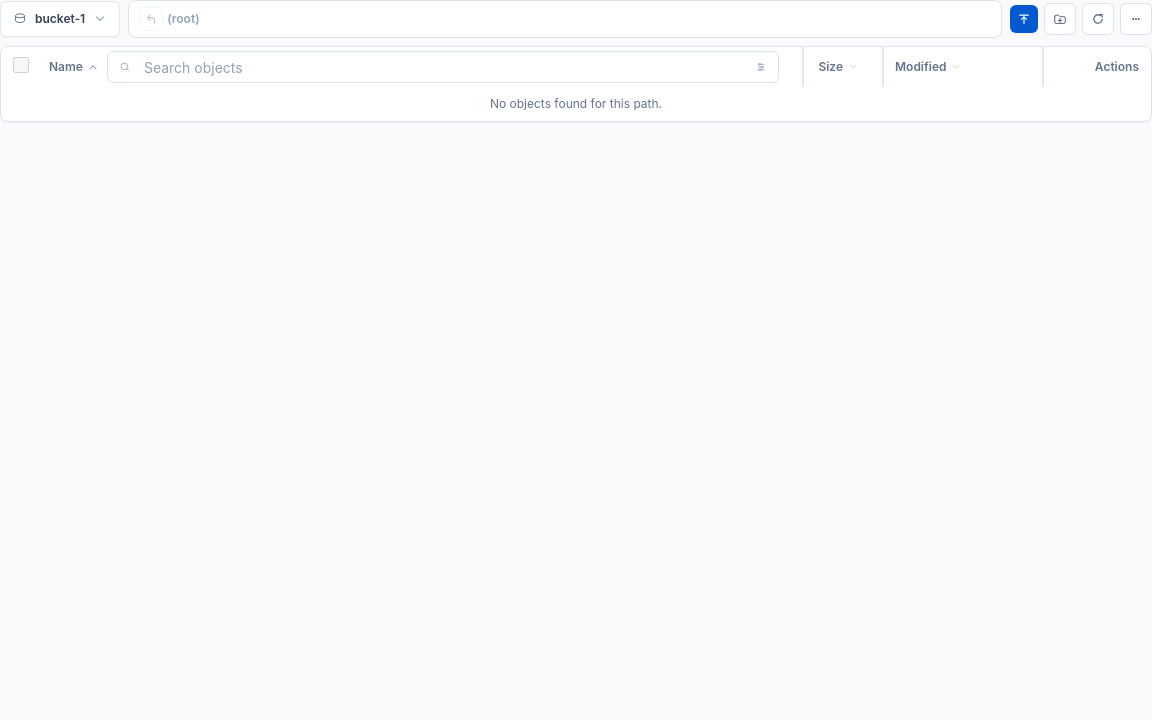
Test case: BrowserPage multipart uploads modal › opens bucket multipart modal and aborts a specific upload after confirmation
Check: the text "No objects found for this path." is shown, box [1,87,1151,121]
Click the button named "More": coordinates (1136, 19) [1120,3,1151,35]
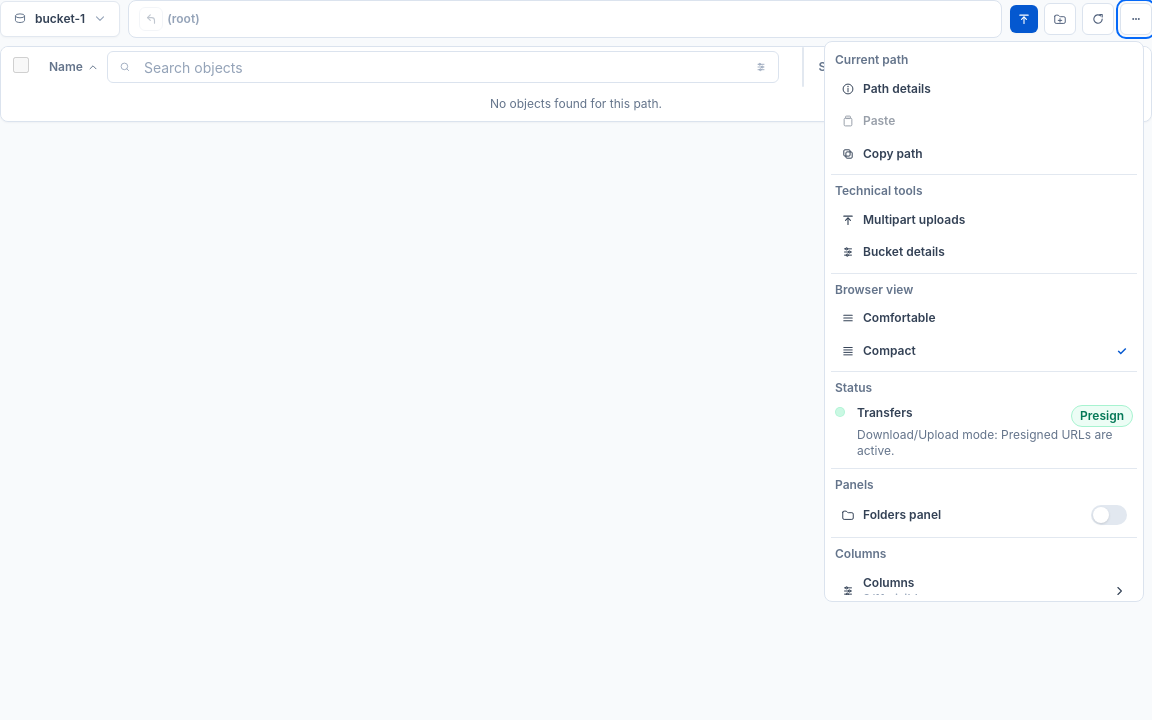
Click the menu item "Multipart uploads": coordinates (914, 219) [831,204,1137,236]
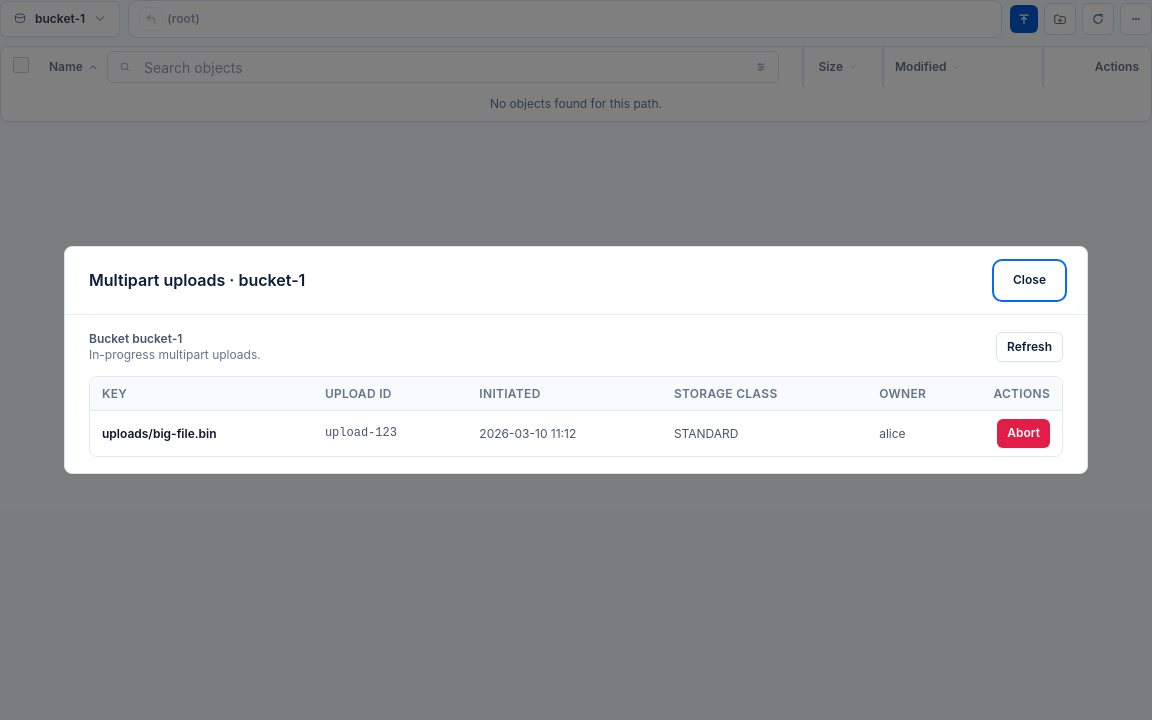
Check: the dialog "Multipart uploads · bucket-1" is shown, box [64,246,1088,474]
Check: the text "uploads/big-file.bin" is shown, box [90,411,313,456]
Click the button "Abort": coordinates (1024, 434) [997,419,1050,448]
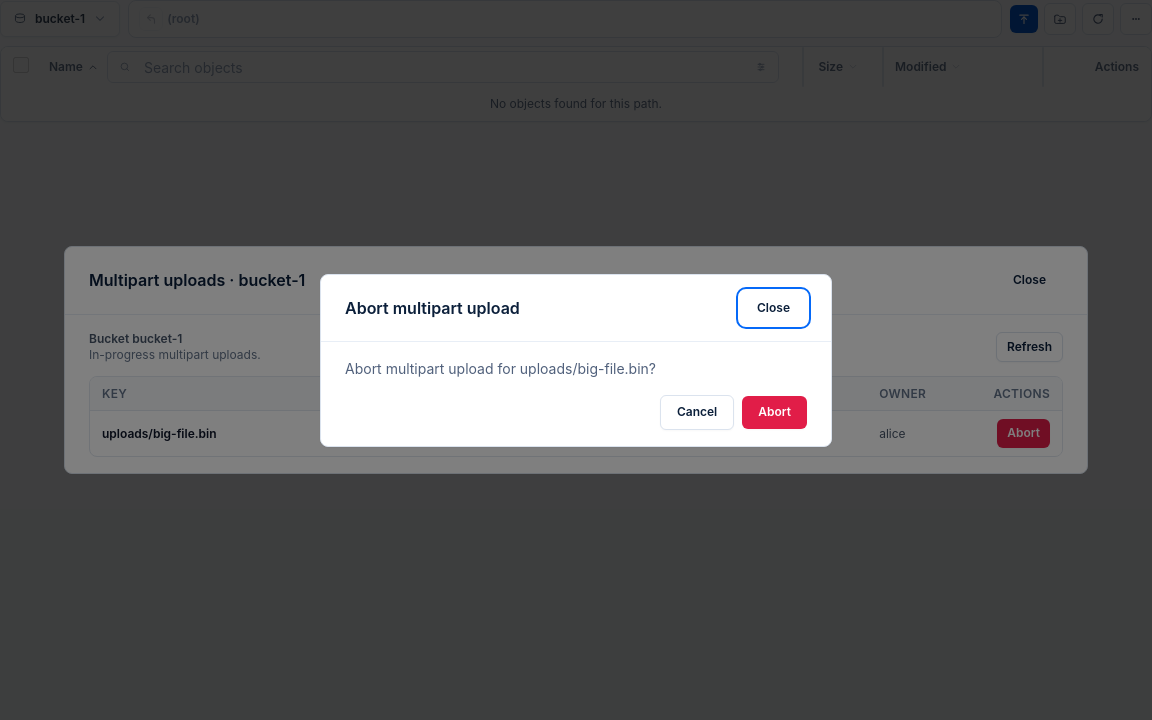
Click the button "Abort": coordinates (775, 412) [742,396,807,428]
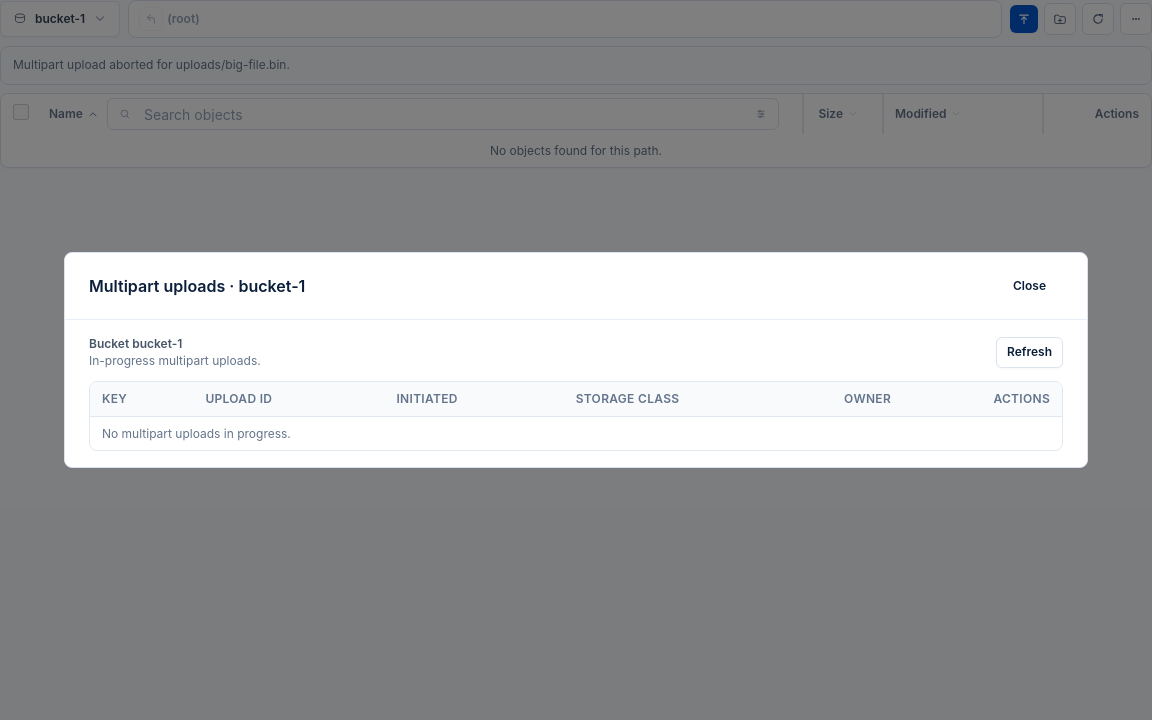
Check: the text "Multipart upload aborted for uploads/big-file.bin." is shown, box [13,57,290,72]
